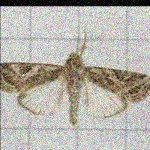Spodoptera litura: (0, 24, 149, 127)
